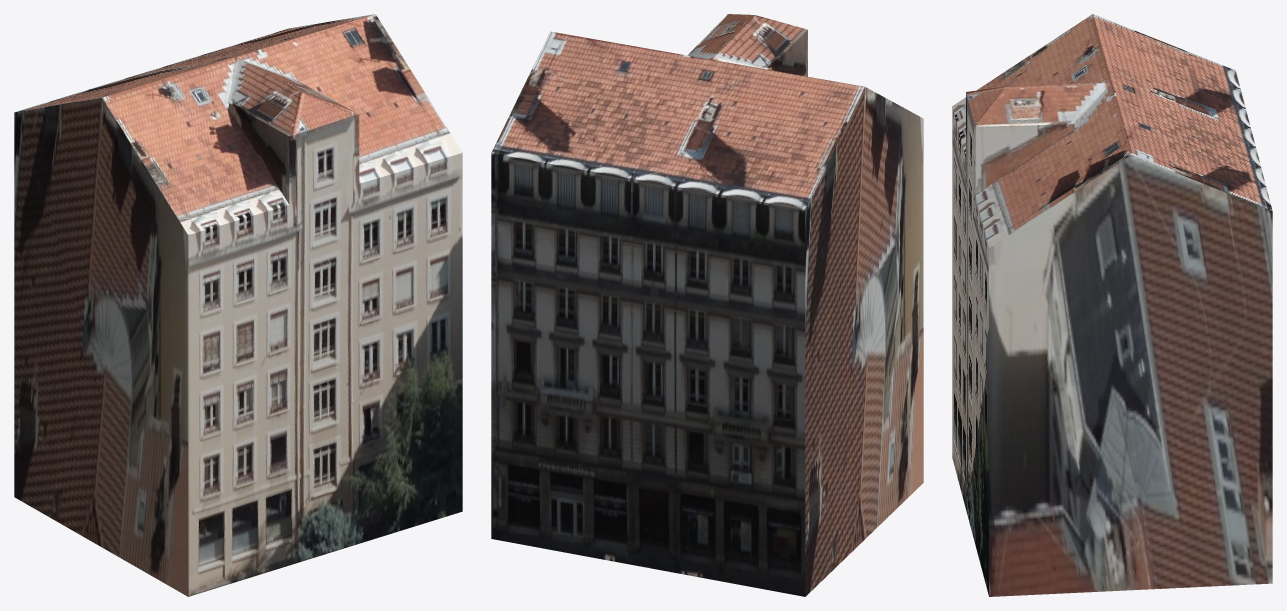
3 renders of one model, left to right at view 1: azimuth 30°, elevation 25°; view 2: azimuth 150°, elevation 25°; view 3: azimuth 270°, elevation 25°, orthographic. The views are drawn at different scales.
Parts seen in each view (by area): view 1: Z_UP; view 2: Z_UP; view 3: Z_UP.
Part boxes in pixels (left/top/right/bottom): Z_UP: left=14, top=14, right=462, bottom=596; Z_UP: left=491, top=14, right=923, bottom=596; Z_UP: left=952, top=14, right=1272, bottom=596.
Bounding box in the file's own units: 20.42 × 27.34 × 18.12.
2 materials, 1 textured.
